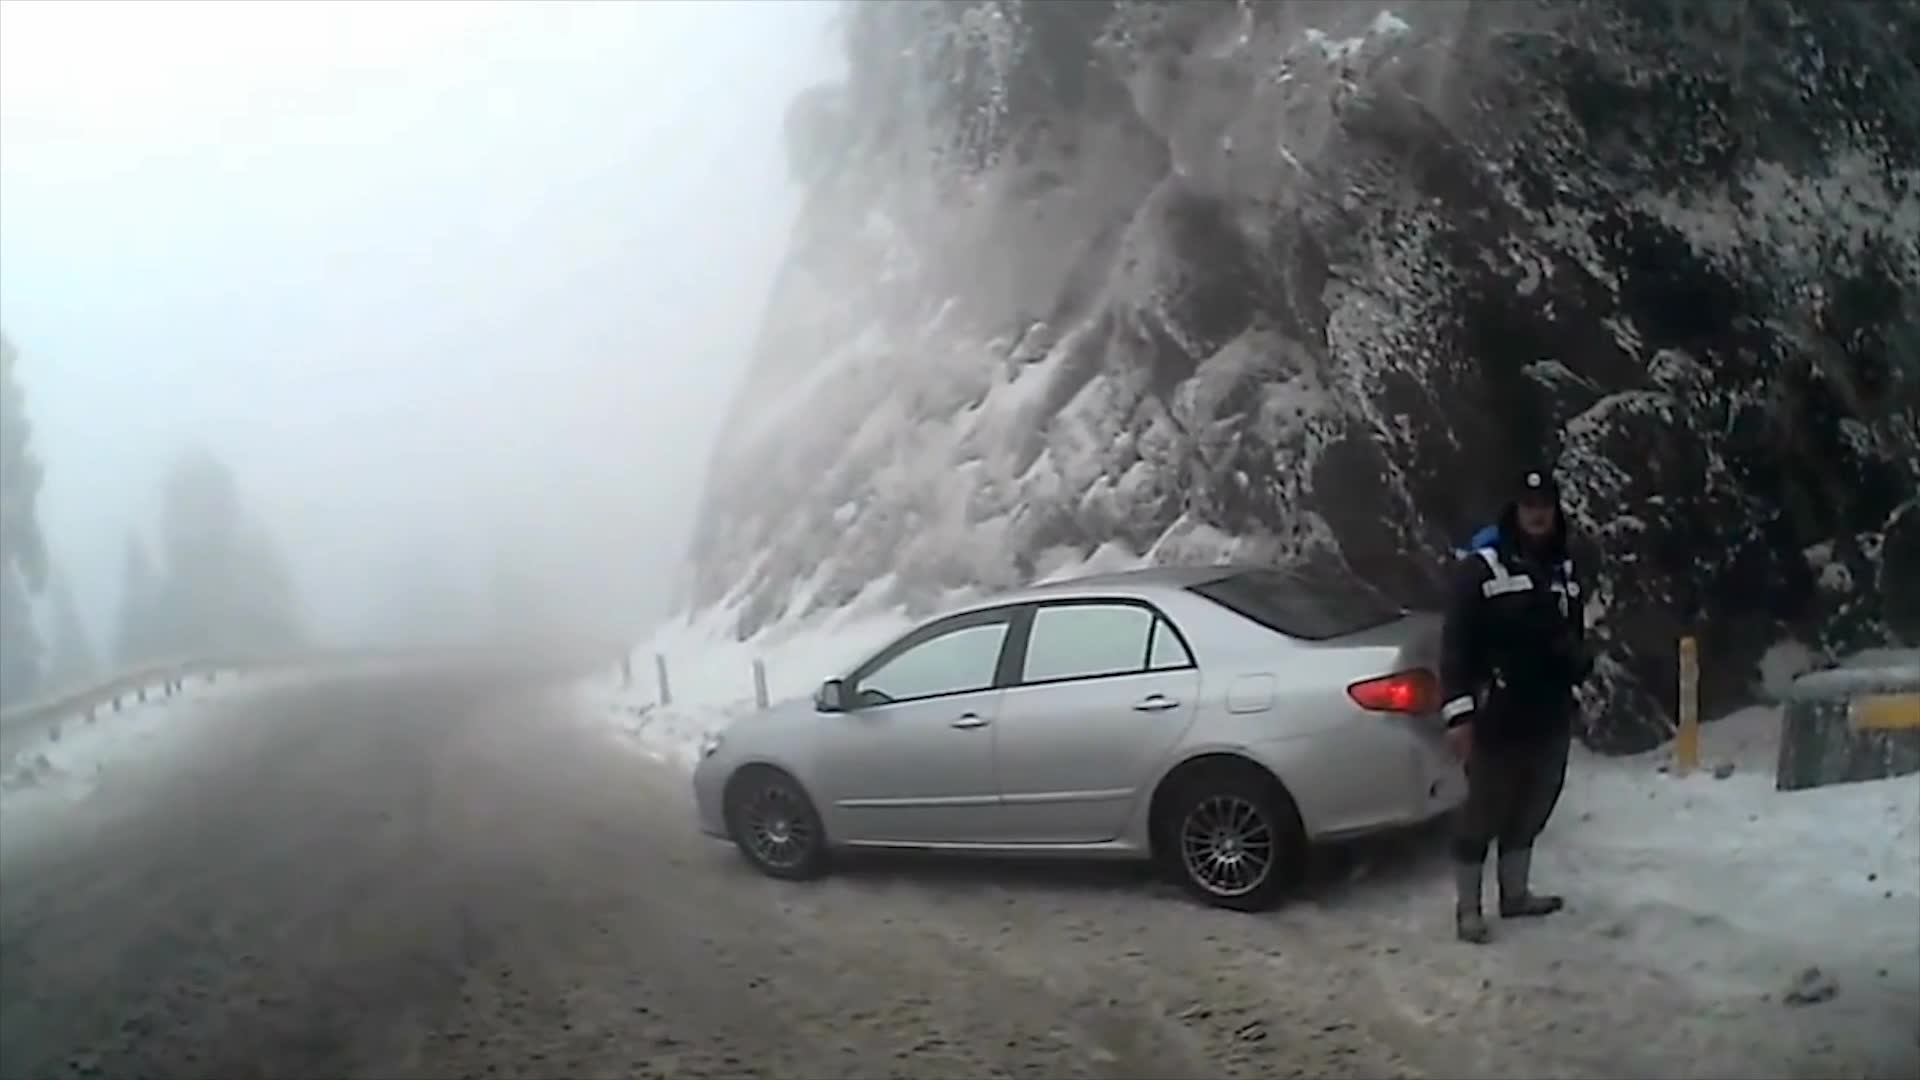pedestrian: (1433, 479, 1592, 955)
vehicle: (689, 563, 1540, 912)
